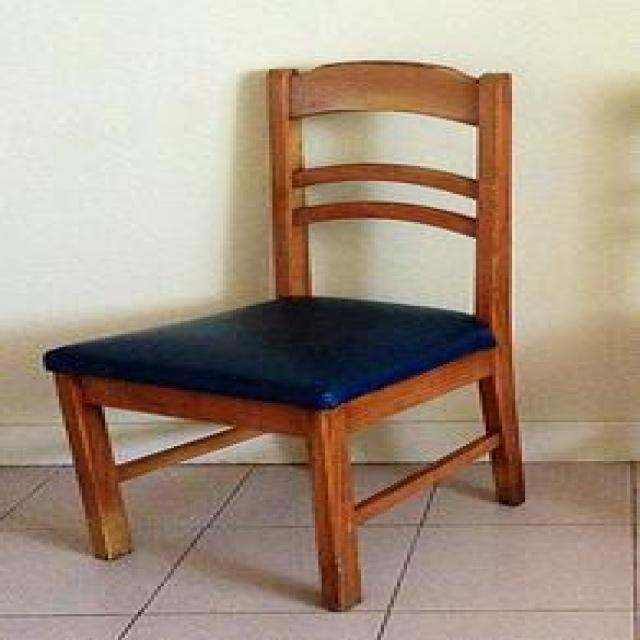chair: (39, 56, 532, 608)
